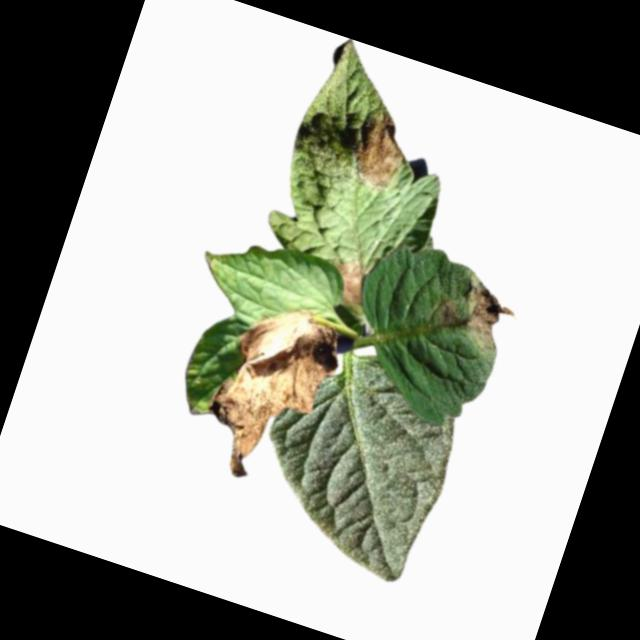Late_blight: (190, 289, 351, 497), (337, 103, 419, 198), (447, 271, 521, 359), (319, 252, 376, 314), (431, 296, 460, 329)
